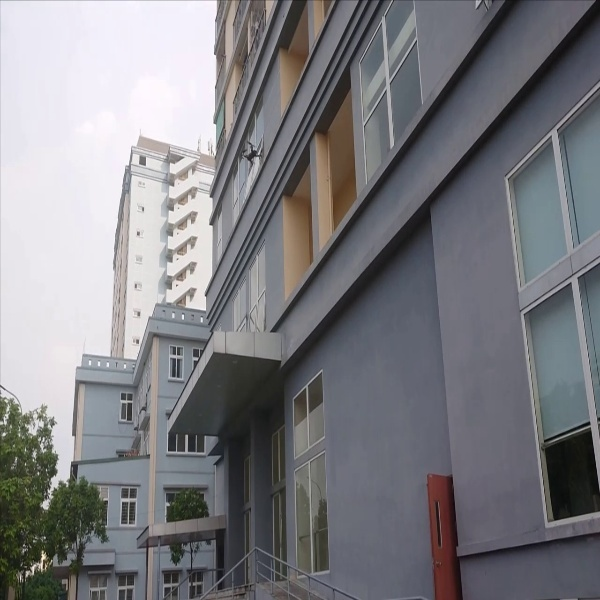drone: (234, 137, 269, 172)
